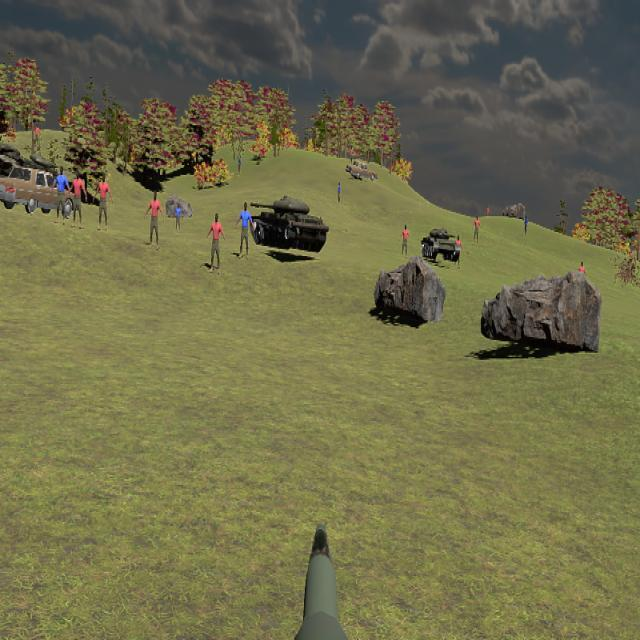Human: (144, 191, 164, 250), (93, 173, 113, 231), (52, 166, 72, 223), (207, 213, 226, 271), (235, 201, 254, 258), (70, 171, 86, 228), (400, 223, 411, 258)
Tank: (248, 194, 329, 253), (421, 227, 461, 262)
car: (0, 165, 72, 215), (345, 161, 379, 181)
